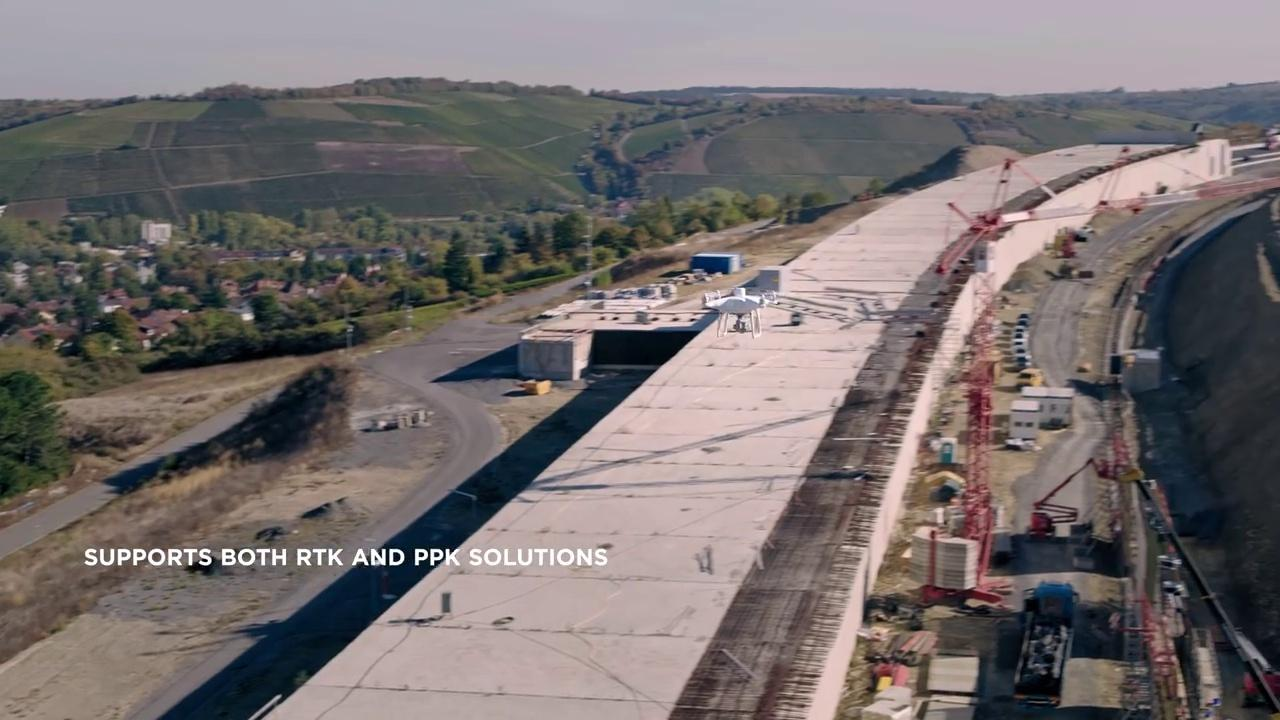drone: (694, 282, 782, 339)
